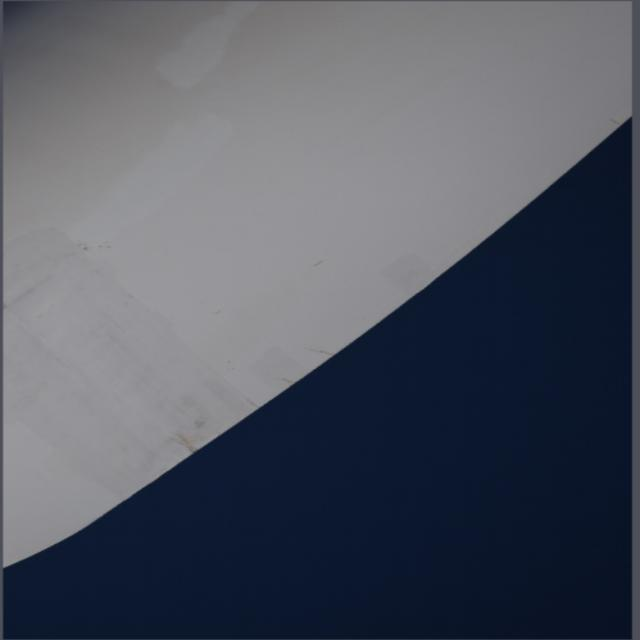Crack: (300, 343, 340, 364), (176, 426, 198, 458), (265, 370, 299, 387), (237, 392, 263, 413)
